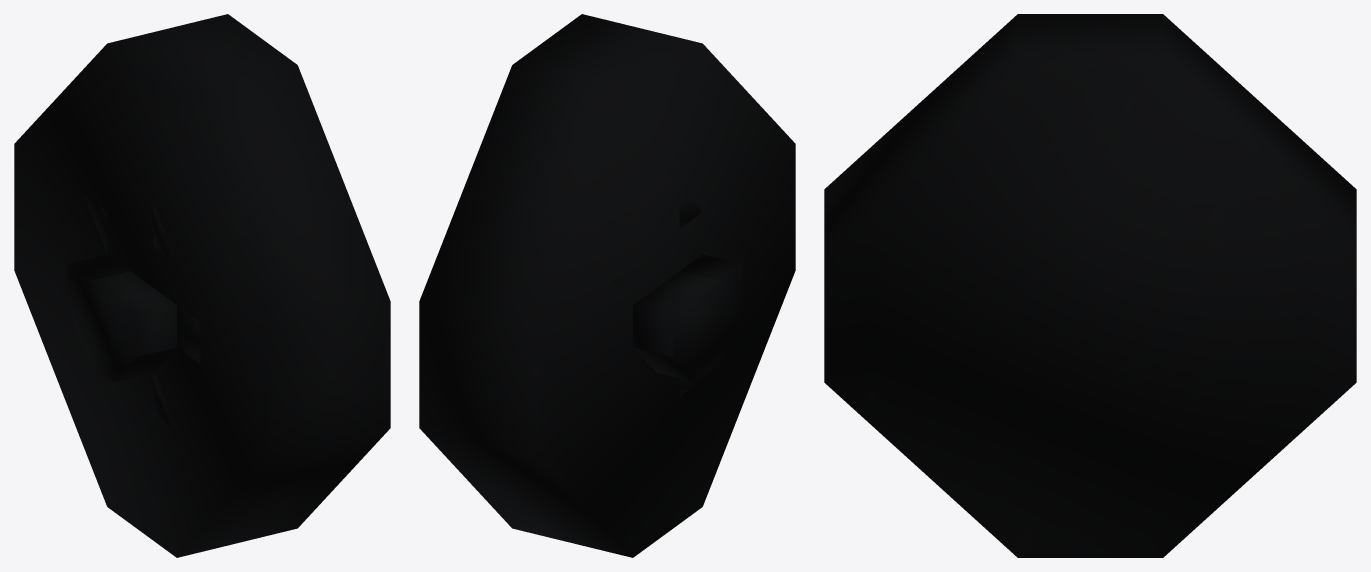
3 views of the same model, side by side, from view 1: azimuth 30°, elevation 25°; view 2: azimuth 150°, elevation 25°; view 3: azimuth 270°, elevation 25° (orthographic). The views are drawn at different scales.
Size of the model in its own units: 0.32 by 0.88 by 0.88.
1 material, 1 textured.
